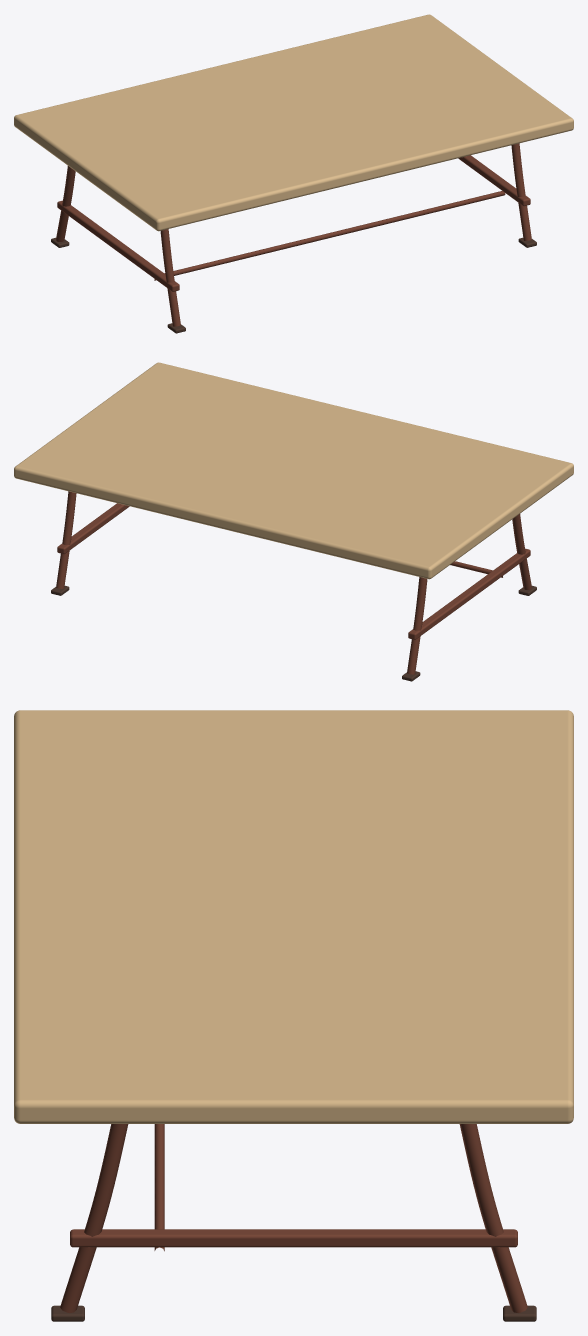
File: desk.glb
The picture shows the model from 3 angles, top to bottom: view 1: azimuth 30°, elevation 25°; view 2: azimuth 150°, elevation 25°; view 3: azimuth 270°, elevation 25°; orthographic projection. The views are drawn at different scales.
Parts seen in each view (by area): view 1: rounded-oak-top, long-stretcher, trestle--2.1, trestle-2.1, splayed-leg--2.1-1, splayed-leg-2.1-1, splayed-leg--2.1--1; view 2: rounded-oak-top, trestle--2.1, trestle-2.1, splayed-leg--2.1--1, splayed-leg-2.1--1, splayed-leg--2.1-1; view 3: rounded-oak-top, trestle-2.1, splayed-leg-2.1--1, splayed-leg-2.1-1, long-stretcher.
Part boxes in pixels (x1,y1,x2,y2): rounded-oak-top: (14, 14, 573, 231); long-stretcher: (154, 191, 505, 280); trestle--2.1: (57, 200, 179, 291); trestle-2.1: (458, 155, 530, 206); splayed-leg--2.1-1: (160, 229, 180, 326); splayed-leg-2.1-1: (511, 143, 531, 240); splayed-leg--2.1--1: (56, 166, 75, 241); rounded-oak-top: (14, 362, 573, 579); trestle--2.1: (408, 548, 530, 639); trestle-2.1: (57, 503, 129, 554); splayed-leg--2.1--1: (407, 577, 427, 674); splayed-leg-2.1--1: (56, 491, 76, 588); splayed-leg--2.1-1: (512, 514, 531, 589); rounded-oak-top: (14, 710, 573, 1123); trestle-2.1: (70, 1229, 517, 1247); splayed-leg-2.1--1: (459, 1124, 527, 1312); splayed-leg-2.1-1: (60, 1124, 128, 1312); long-stretcher: (154, 1124, 164, 1251).
Bounding box in the file's own units: 5 × 1.46 × 3.
